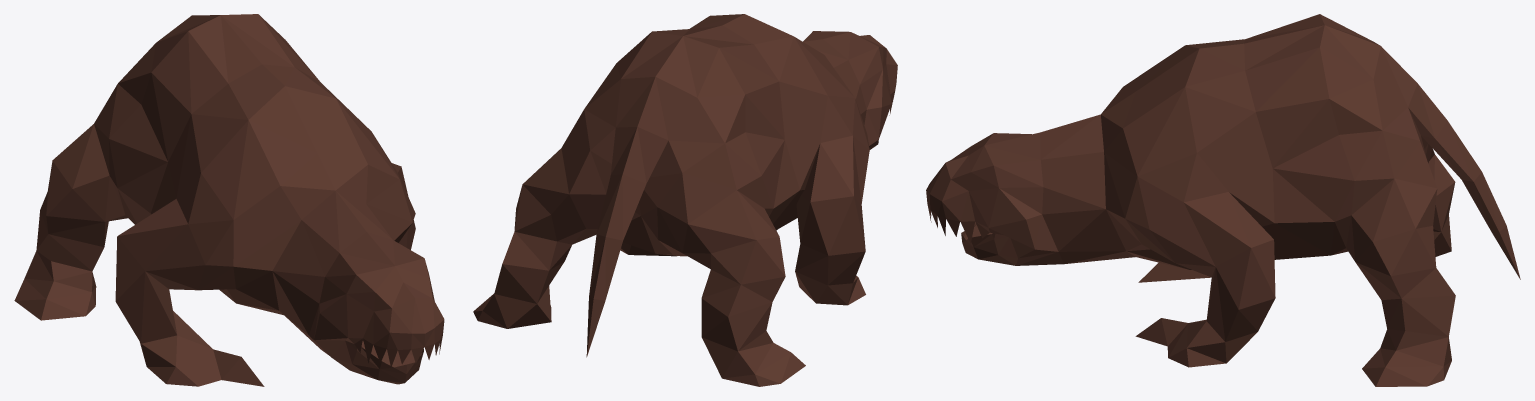
The model's file is MOL_BODY.OBJ.
3 views of the same model, side by side, from view 1: azimuth 30°, elevation 25°; view 2: azimuth 150°, elevation 25°; view 3: azimuth 270°, elevation 25° (orthographic). The views are drawn at different scales.
Parts seen in each view (by area): view 1: MOL_BODY; view 2: MOL_BODY; view 3: MOL_BODY.
Part boxes in pixels (bbox=[...]): MOL_BODY: bbox=[14, 14, 444, 386]; MOL_BODY: bbox=[473, 14, 897, 386]; MOL_BODY: bbox=[926, 14, 1520, 386].
Bounding box in the file's own units: 1.04 × 0.9031 × 1.71.
